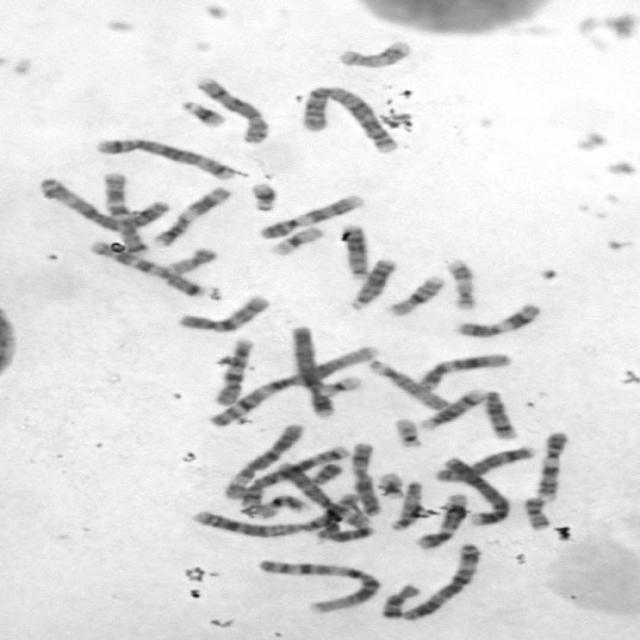A1: (204, 341, 381, 428), (252, 556, 382, 615)
A2: (187, 491, 364, 538), (296, 82, 400, 155)
A3: (35, 174, 172, 233), (398, 539, 483, 622)
B4: (436, 454, 511, 525), (289, 322, 336, 419)
B5: (237, 442, 352, 509), (92, 135, 240, 182)
C10: (173, 292, 273, 334), (210, 336, 256, 407)
C11: (149, 183, 232, 248), (450, 300, 542, 340)
C12: (412, 350, 514, 392), (412, 490, 470, 549)
C6: (274, 458, 372, 530), (220, 420, 306, 501)
C7: (87, 239, 205, 298), (99, 170, 149, 256)
C8: (190, 74, 272, 145), (429, 442, 538, 484)
C9: (255, 192, 366, 240), (534, 431, 570, 502)
D13: (344, 256, 398, 310), (337, 222, 371, 280)
D14: (416, 386, 486, 432), (480, 388, 520, 440)
D15: (364, 356, 451, 411), (386, 479, 424, 532)
E16: (382, 273, 446, 317), (237, 493, 309, 519)
E17: (331, 38, 415, 70), (443, 256, 478, 312)
E18: (377, 581, 422, 620), (312, 523, 378, 543)
F19: (266, 223, 326, 257), (314, 373, 364, 397)
F20: (162, 245, 219, 274), (520, 494, 552, 531)
G21: (176, 97, 227, 130), (248, 179, 279, 213)
G22: (390, 415, 424, 449), (373, 469, 406, 501)
X: (348, 439, 383, 516)
Y: (308, 460, 346, 485)
